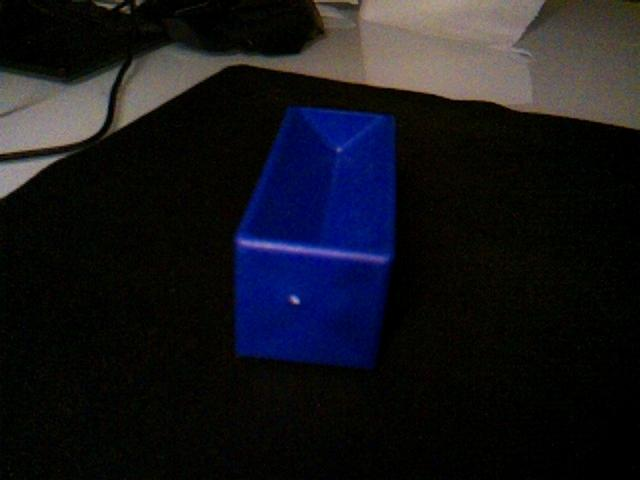blue: (232, 104, 399, 371)
